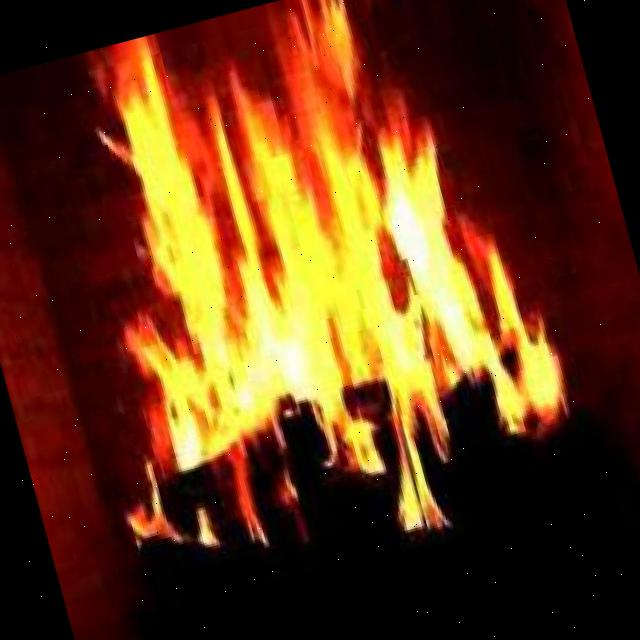fire: (81, 13, 568, 504)
